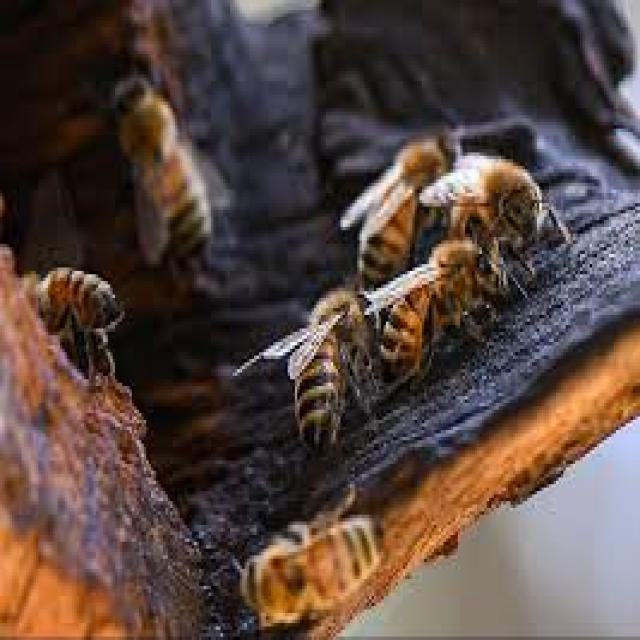Bees: (228, 282, 380, 464), (103, 72, 235, 273), (227, 484, 385, 631), (369, 231, 509, 378), (420, 152, 573, 279), (341, 130, 462, 284), (18, 263, 125, 393)
